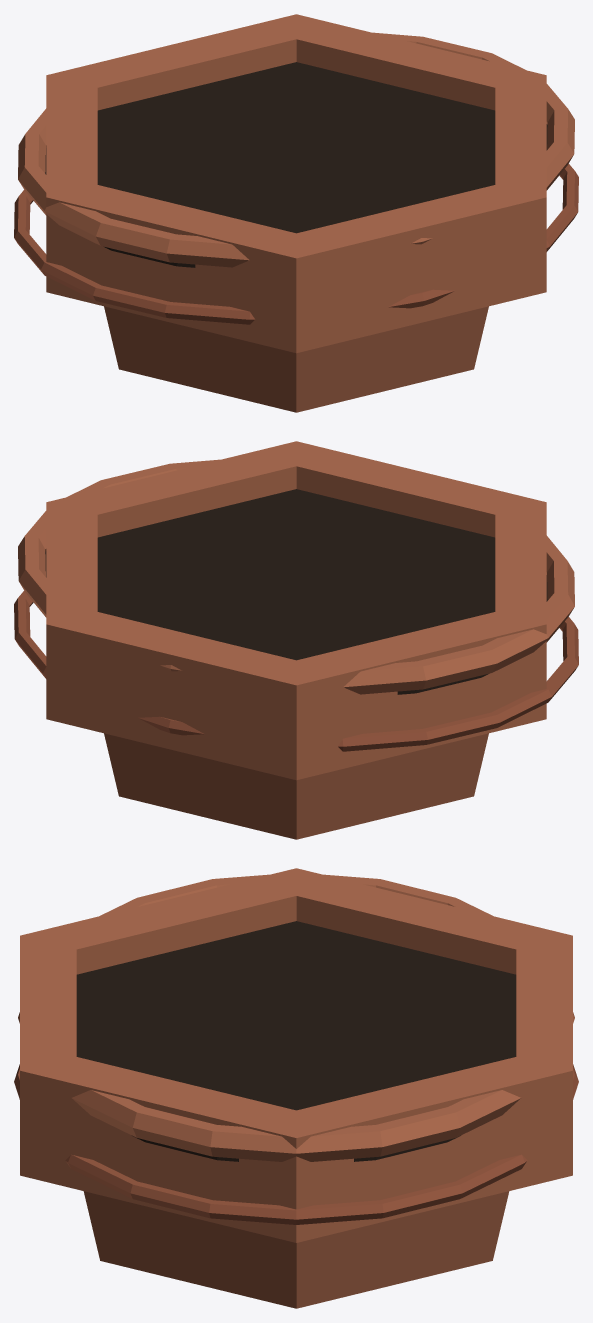
File: pot_large.glb
3 views of the same model, one above another, from view 1: azimuth 30°, elevation 25°; view 2: azimuth 150°, elevation 25°; view 3: azimuth 270°, elevation 25° (orthographic). The views are drawn at different scales.
Visible parts, largest first — view 1: pot_large; view 2: pot_large; view 3: pot_large.
Part boxes in pixels (box(x1,y1,x2,y2)): pot_large: box(14, 14, 578, 412); pot_large: box(14, 441, 578, 839); pot_large: box(14, 868, 578, 1308).
Bounding box in the file's own units: 0.5636 × 0.2 × 0.4881.
